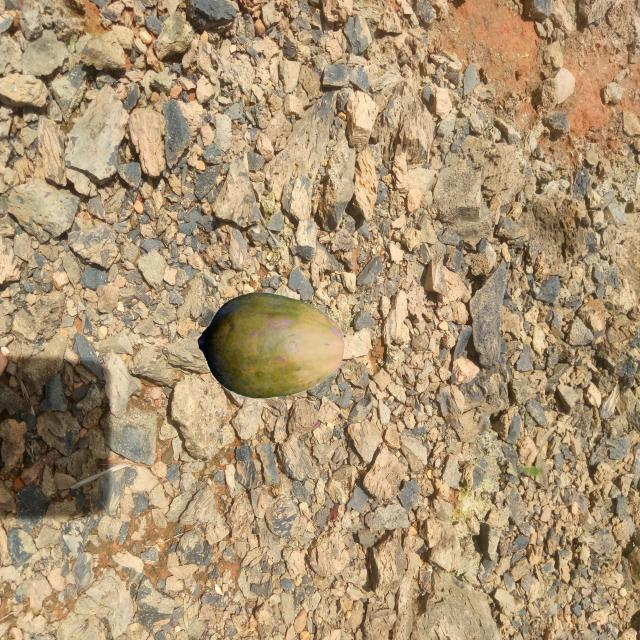Pepaya rippen: (183, 281, 350, 407)
